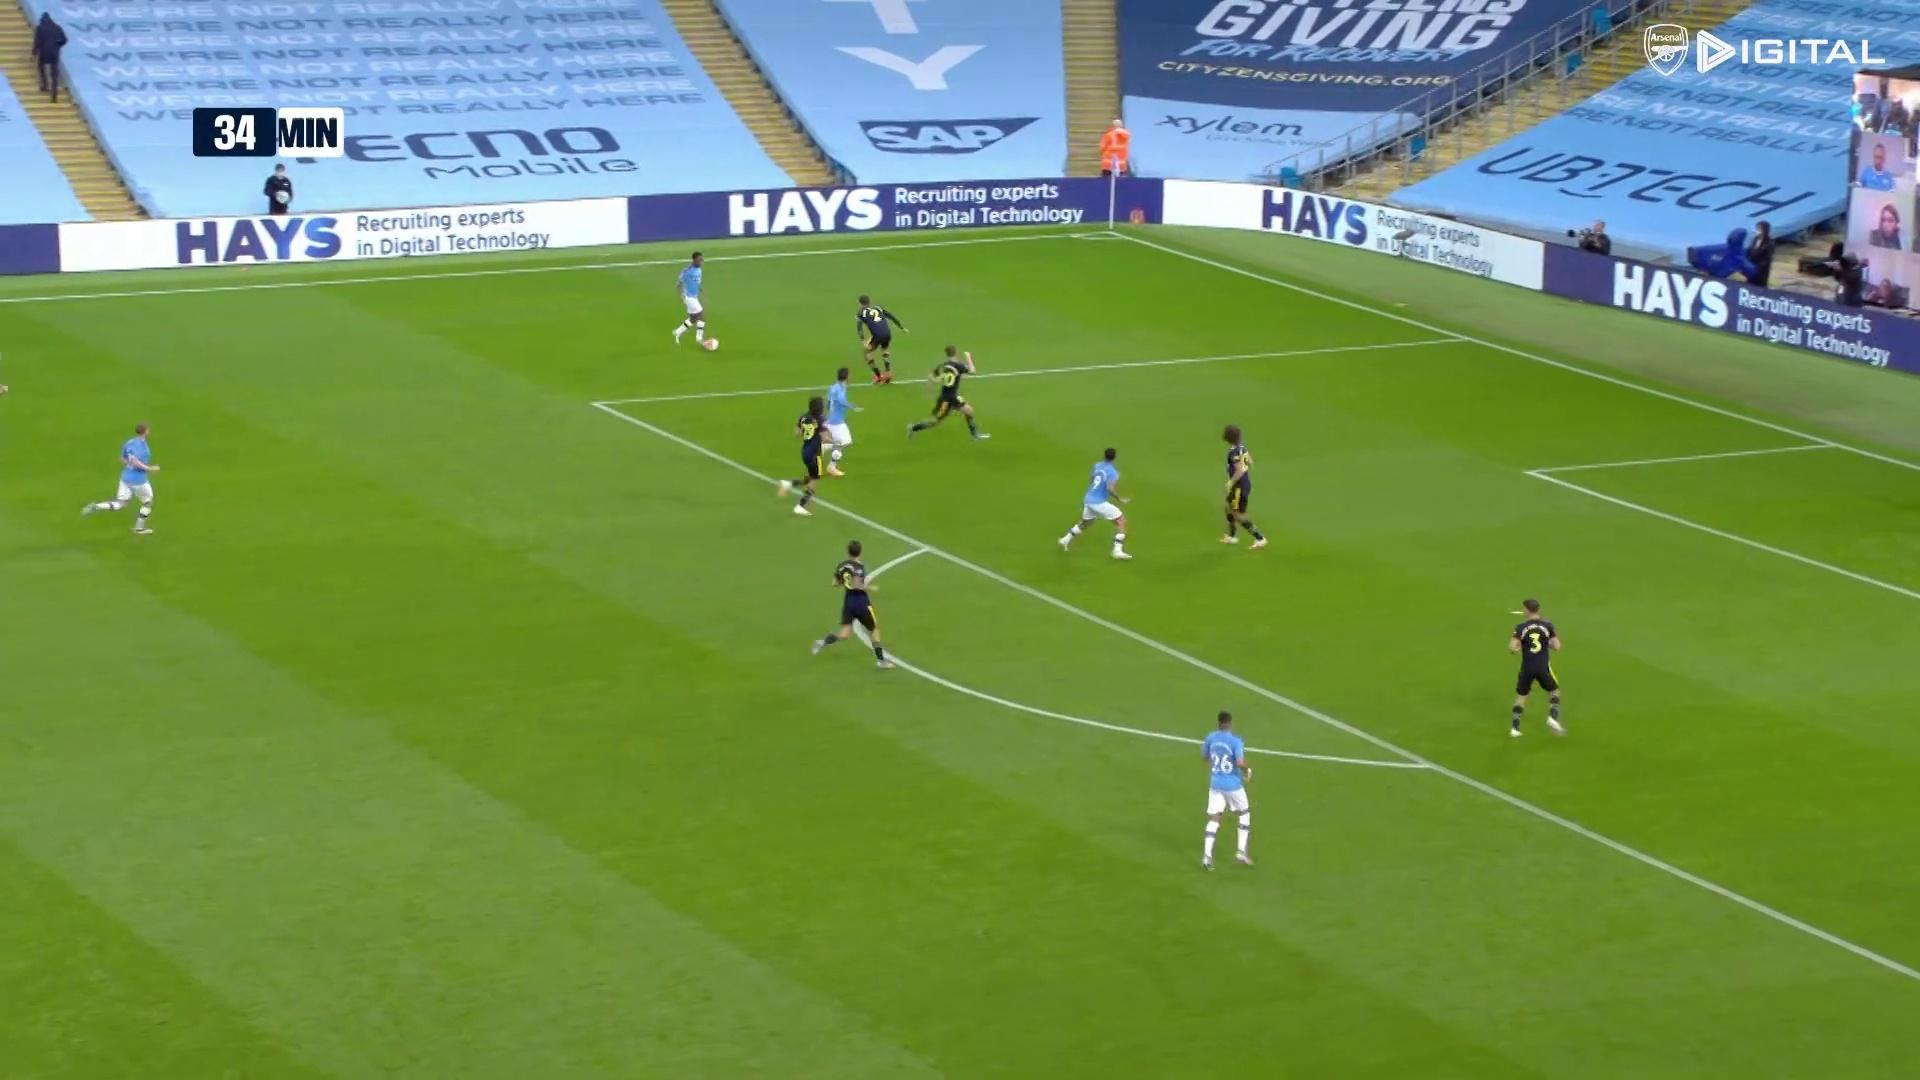ball: (703, 335, 722, 354)
player: (1191, 707, 1269, 874), (806, 540, 896, 677), (77, 422, 164, 547), (1060, 441, 1143, 567), (1502, 597, 1570, 745), (776, 390, 853, 520), (909, 340, 998, 448), (1213, 419, 1276, 556), (849, 292, 909, 391), (816, 363, 866, 481), (669, 248, 722, 357)
